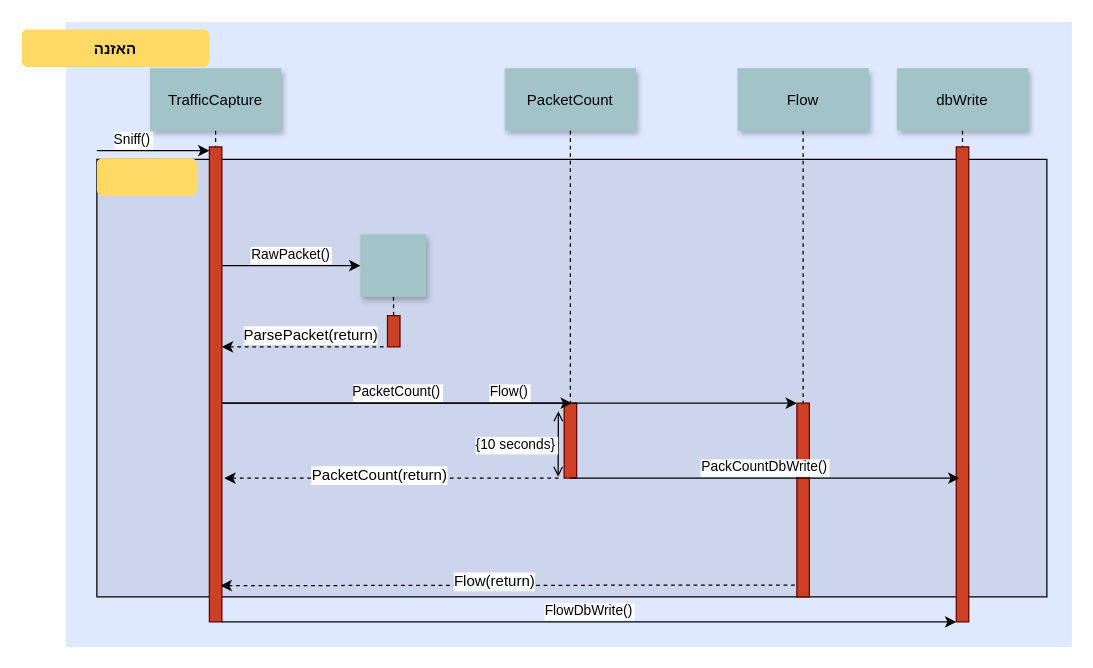
This 1093x668 diagram has some shape labels left out. Each missing label, with the centre of its shape:
Loop (0,30) seconds: the point at 146,176
Parsing RawData: the point at 394,267
